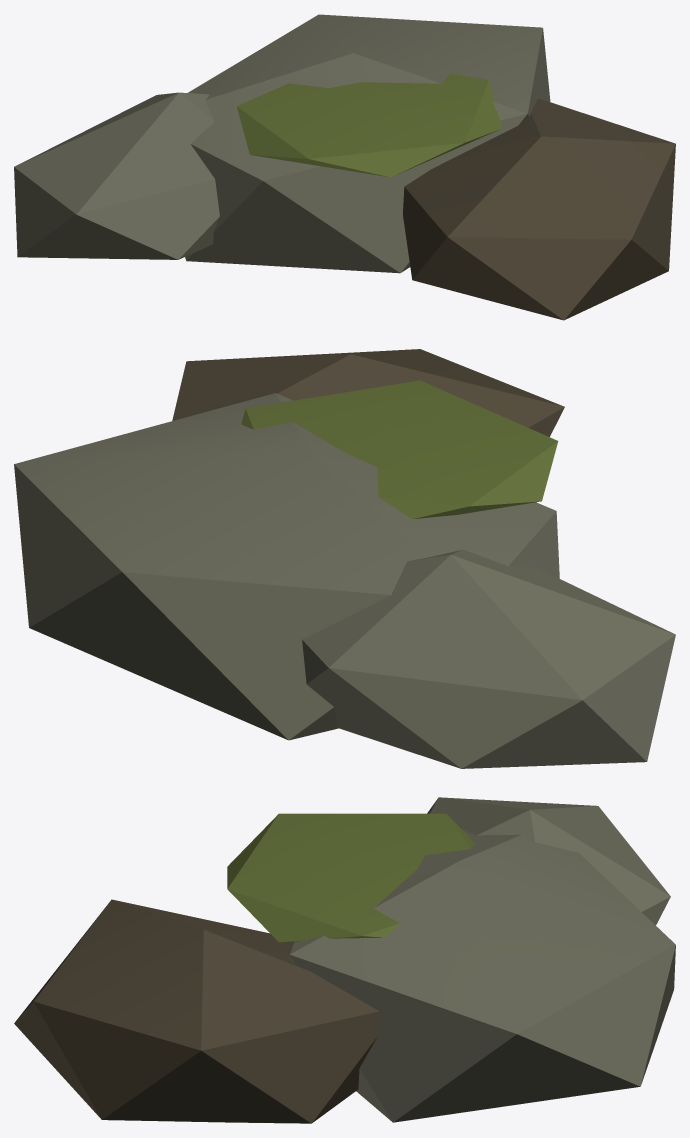
The model's file is SW_ENV_Rock_2.fbx.
3 views of the same model, one above another, from view 1: azimuth 30°, elevation 25°; view 2: azimuth 150°, elevation 25°; view 3: azimuth 270°, elevation 25° (orthographic). The views are drawn at different scales.
Visible parts, largest first — view 1: SW_ENV_Rock_2; view 2: SW_ENV_Rock_2; view 3: SW_ENV_Rock_2.
Boxes of the visible parts, x1,y1,x2,y2 form: SW_ENV_Rock_2: (14, 14, 675, 320); SW_ENV_Rock_2: (14, 349, 675, 768); SW_ENV_Rock_2: (14, 797, 675, 1123).
Bounding box in the file's own units: 1.74 × 0.6004 × 1.66.
